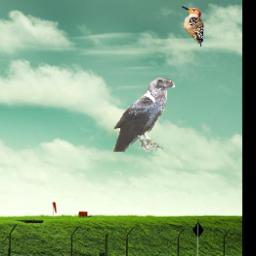Crow: (113, 77, 176, 153)
Woodpecker: (181, 5, 203, 46)
